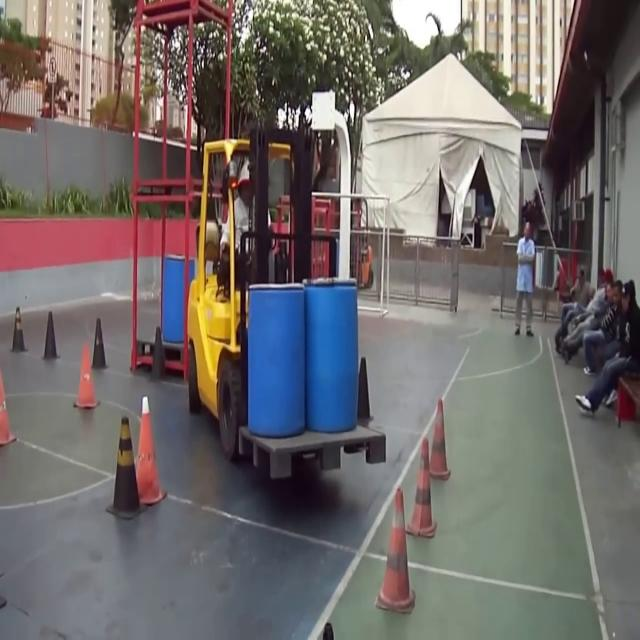Chariot elevateur: (184, 120, 340, 478)
